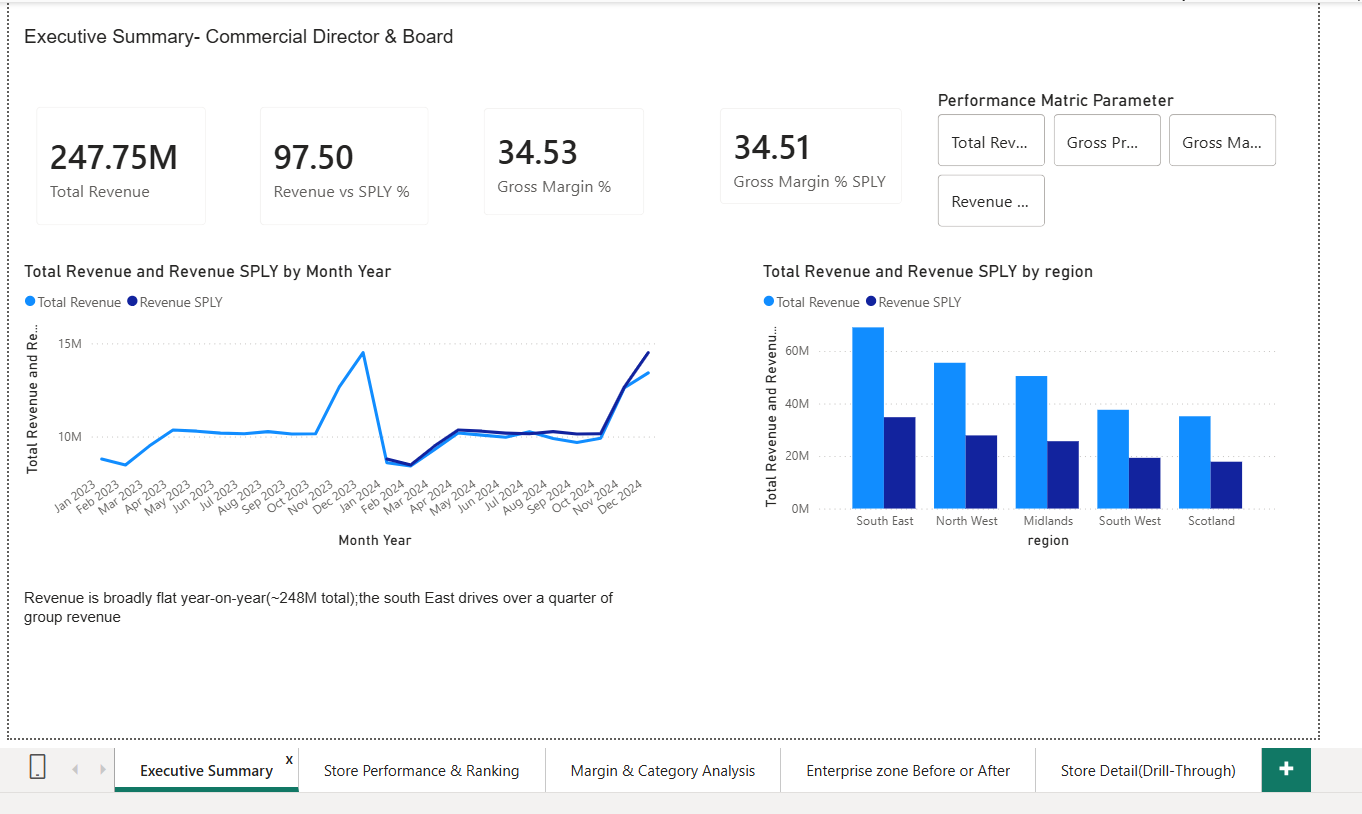

The page's visual inventory and layout, read from the dashboard file:
{"tool":"powerbi","page":{"name":"Executive Summary","canvas":[1280,720],"ordinal":0},"visuals":[{"type":"textbox","box":[10,18.6,668.6,52.9],"z":0},{"type":"textbox","box":[10,568.6,594.3,100],"z":1000},{"type":"cardVisual","fields":{"Data":["Table.Total Revenue"]},"box":[9.4,86,200.2,150.5],"z":2000},{"type":"cardVisual","fields":{"Data":["Table.Revenue vs SPLY %"]},"box":[228.7,85.6,199.3,150.4],"z":3000},{"type":"cardVisual","fields":{"Data":["Table.Gross Margin %"]},"box":[447.6,86.8,192,139.4],"z":4000},{"type":"cardVisual","fields":{"Data":["Table.Gross Margin % SPLY"]},"box":[678.7,86.8,212.8,128.4],"z":5000},{"type":"lineChart","fields":{"Category":["DateTable.Month Year"],"Y":["Table.Total Revenue","Table.Revenue SPLY"]},"box":[9.4,252.6,630.1,286.1],"z":6000},{"type":"clusteredColumnChart","fields":{"Category":["Stores.region"],"Y":["Table.Total Revenue","Table.Revenue SPLY"]},"box":[732.2,252.6,513.2,286.1],"z":7000},{"type":"advancedSlicerVisual","fields":{"Values":["Performance Matric Parameter.Performance Matric Parameter"]},"box":[903.7,85.6,341.2,140.6],"z":8000}]}

Visuals, with their boxes on the page's 1280x720 design canvas (x1, y1, x2, y2). These are canvas units, not pixel positions in the 1362x814 screenshot, which may show the page scaled, cropped or inside an application window:
textbox: (left=10, top=19, right=679, bottom=72)
textbox: (left=10, top=569, right=604, bottom=669)
cardVisual - Table.Total Revenue: (left=9, top=86, right=210, bottom=236)
cardVisual - Table.Revenue vs SPLY %: (left=229, top=86, right=428, bottom=236)
cardVisual - Table.Gross Margin %: (left=448, top=87, right=640, bottom=226)
cardVisual - Table.Gross Margin % SPLY: (left=679, top=87, right=892, bottom=215)
lineChart - DateTable.Month Year x Table.Total Revenue: (left=9, top=253, right=640, bottom=539)
clusteredColumnChart - Stores.region x Table.Total Revenue: (left=732, top=253, right=1245, bottom=539)
advancedSlicerVisual - Performance Matric Parameter.Performance Matric Parameter: (left=904, top=86, right=1245, bottom=226)
